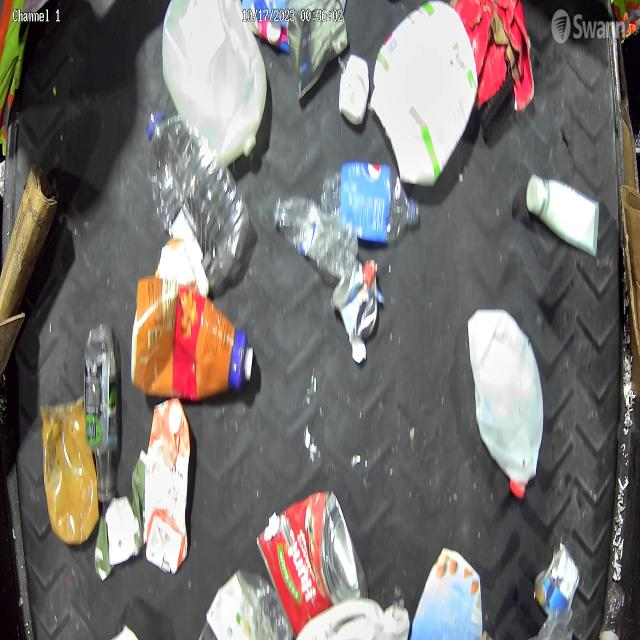can: (256, 490, 370, 640), (286, 0, 349, 98), (332, 261, 378, 343), (535, 541, 580, 617)
milk_jug: (369, 3, 481, 188), (162, 4, 268, 162), (467, 308, 544, 499), (296, 598, 410, 640)
non_white_jug: (132, 276, 254, 400), (144, 397, 191, 574), (410, 548, 483, 640)
plastic_bottle: (146, 108, 250, 290), (321, 161, 422, 245), (271, 193, 360, 280), (202, 570, 294, 640), (85, 324, 117, 501), (599, 581, 626, 640)
